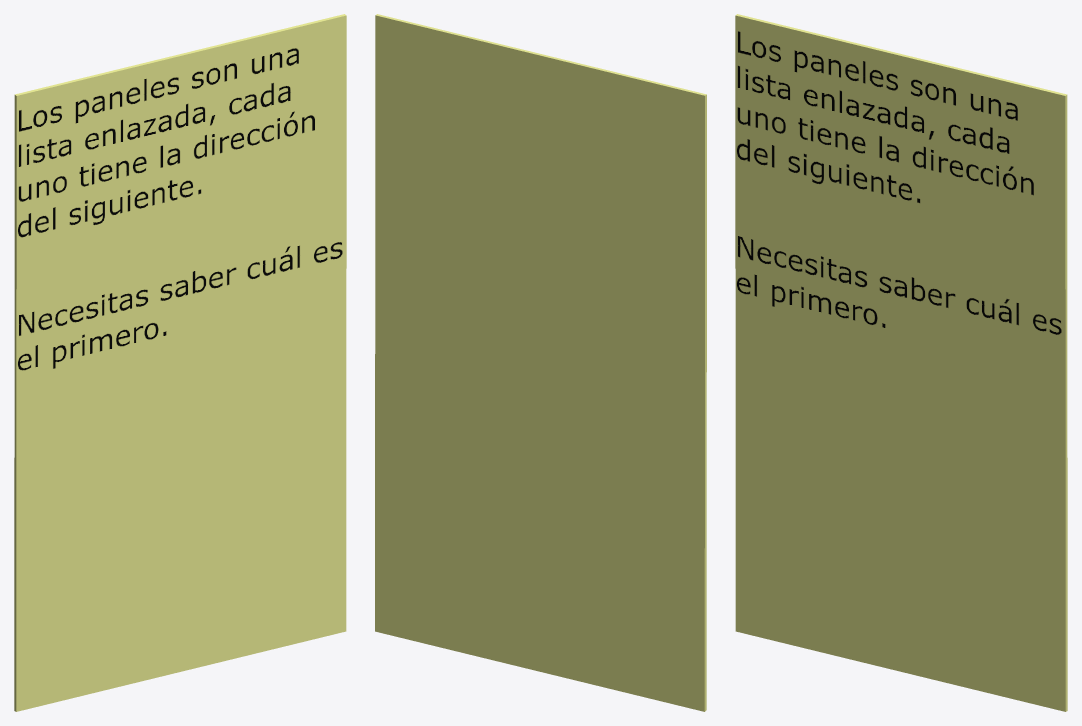
The model's file is Pista1.fbx.
The picture shows the model from 3 angles, left to right: view 1: azimuth 30°, elevation 25°; view 2: azimuth 150°, elevation 25°; view 3: azimuth 330°, elevation 25°; orthographic projection.
Visible parts, largest first — view 1: Cylinder; view 2: Cylinder; view 3: Cylinder.
Boxes of the visible parts, x1,y1,x2,y2 form: Cylinder: (14, 14, 346, 711); Cylinder: (375, 14, 706, 711); Cylinder: (735, 14, 1067, 711).
Size of the model in its own units: 9 by 16.07 by 0.1023.
1 material, 1 textured.
